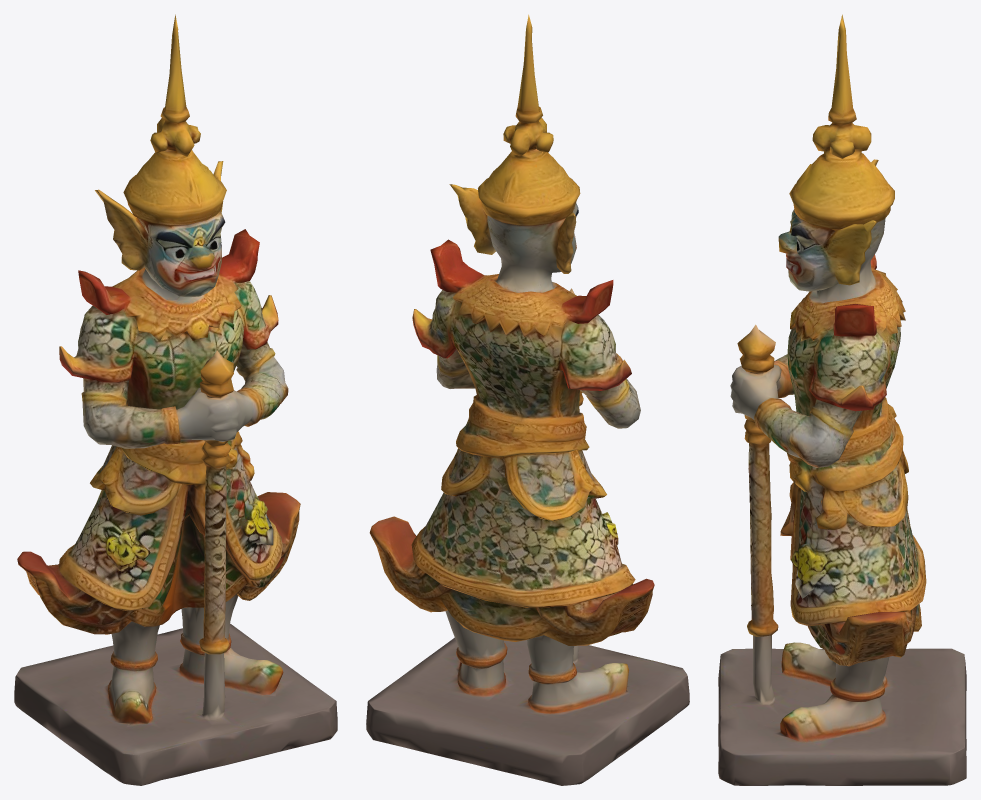
File: yak.glb
3 views of the same model, side by side, from view 1: azimuth 30°, elevation 25°; view 2: azimuth 150°, elevation 25°; view 3: azimuth 270°, elevation 25° (orthographic).
Parts seen in each view (by area): view 1: tripo_node_e5a09b39-1b7e-4c76-a360-c2fbe0e9b2bf; view 2: tripo_node_e5a09b39-1b7e-4c76-a360-c2fbe0e9b2bf; view 3: tripo_node_e5a09b39-1b7e-4c76-a360-c2fbe0e9b2bf.
Part boxes in pixels (x1,y1,x2,y2): tripo_node_e5a09b39-1b7e-4c76-a360-c2fbe0e9b2bf: (14,14,337,785); tripo_node_e5a09b39-1b7e-4c76-a360-c2fbe0e9b2bf: (366,14,689,785); tripo_node_e5a09b39-1b7e-4c76-a360-c2fbe0e9b2bf: (718,14,966,785).
Size of the model in its own units: 0.4073 by 1 by 0.3136.
1 material, 1 textured.
